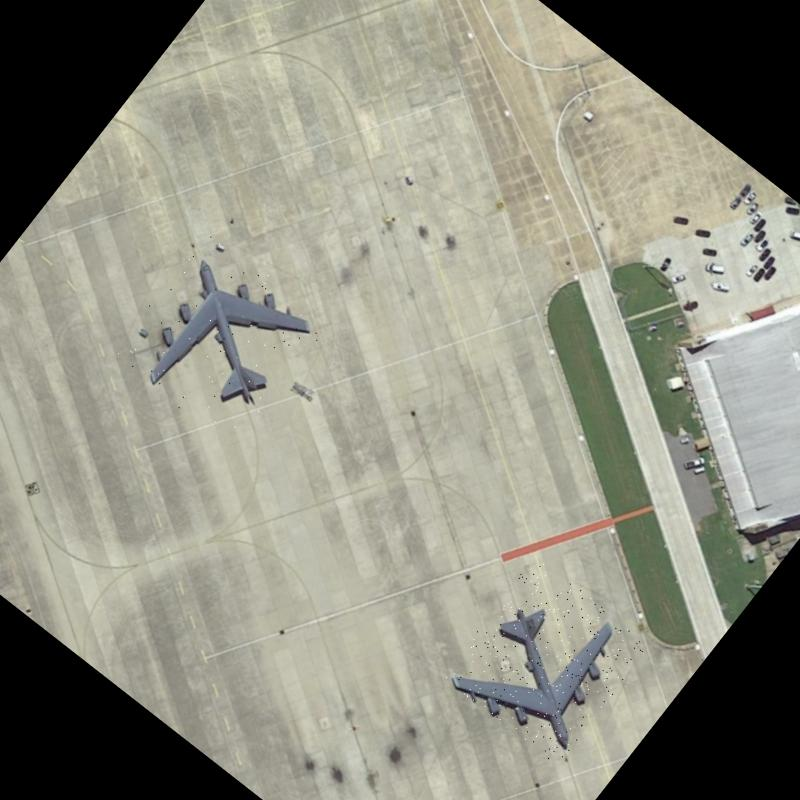A8: (110, 228, 330, 450), (440, 556, 652, 768)
